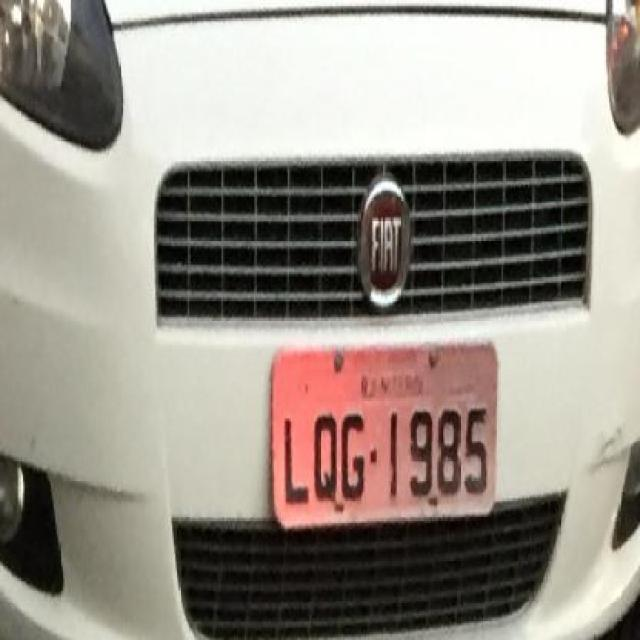old_plate: (260, 328, 508, 541)
